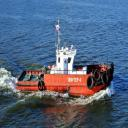tugboat: (17, 43, 116, 102)
